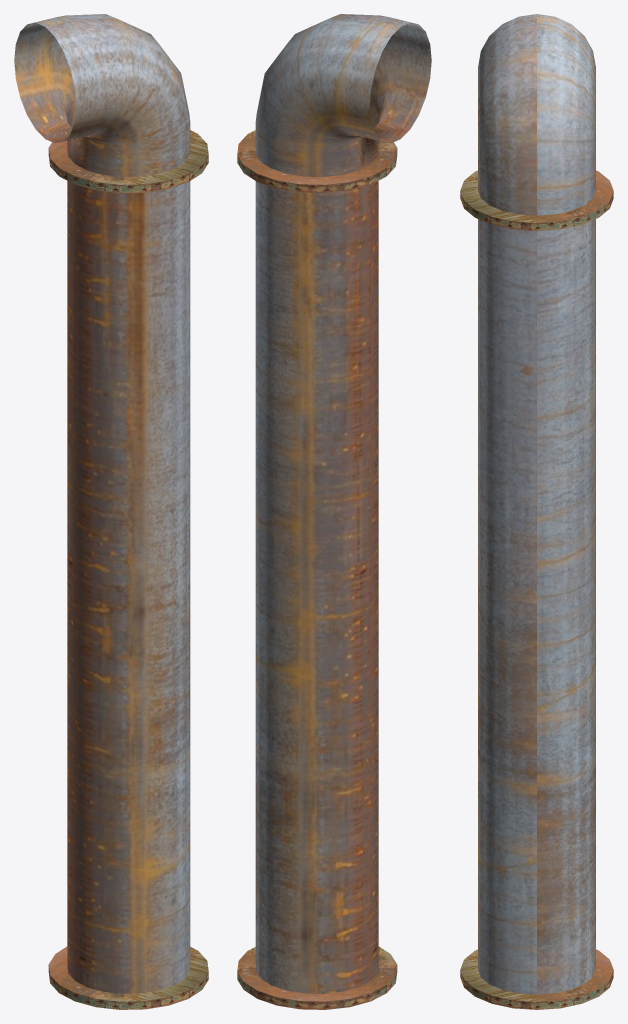
The model's file is pipe_02.fbx.
3 views of the same model, side by side, from view 1: azimuth 30°, elevation 25°; view 2: azimuth 150°, elevation 25°; view 3: azimuth 270°, elevation 25° (orthographic). The views are drawn at different scales.
Parts seen in each view (by area): view 1: pipe_02; view 2: pipe_02; view 3: pipe_02.
Boxes of the visible parts, x1=… form: pipe_02: x1=14, y1=14, x2=208, y2=1009; pipe_02: x1=237, y1=14, x2=431, y2=1009; pipe_02: x1=460, y1=14, x2=613, y2=1009.
Size of the model in its own units: 0.6462 by 3.91 by 0.5876.
